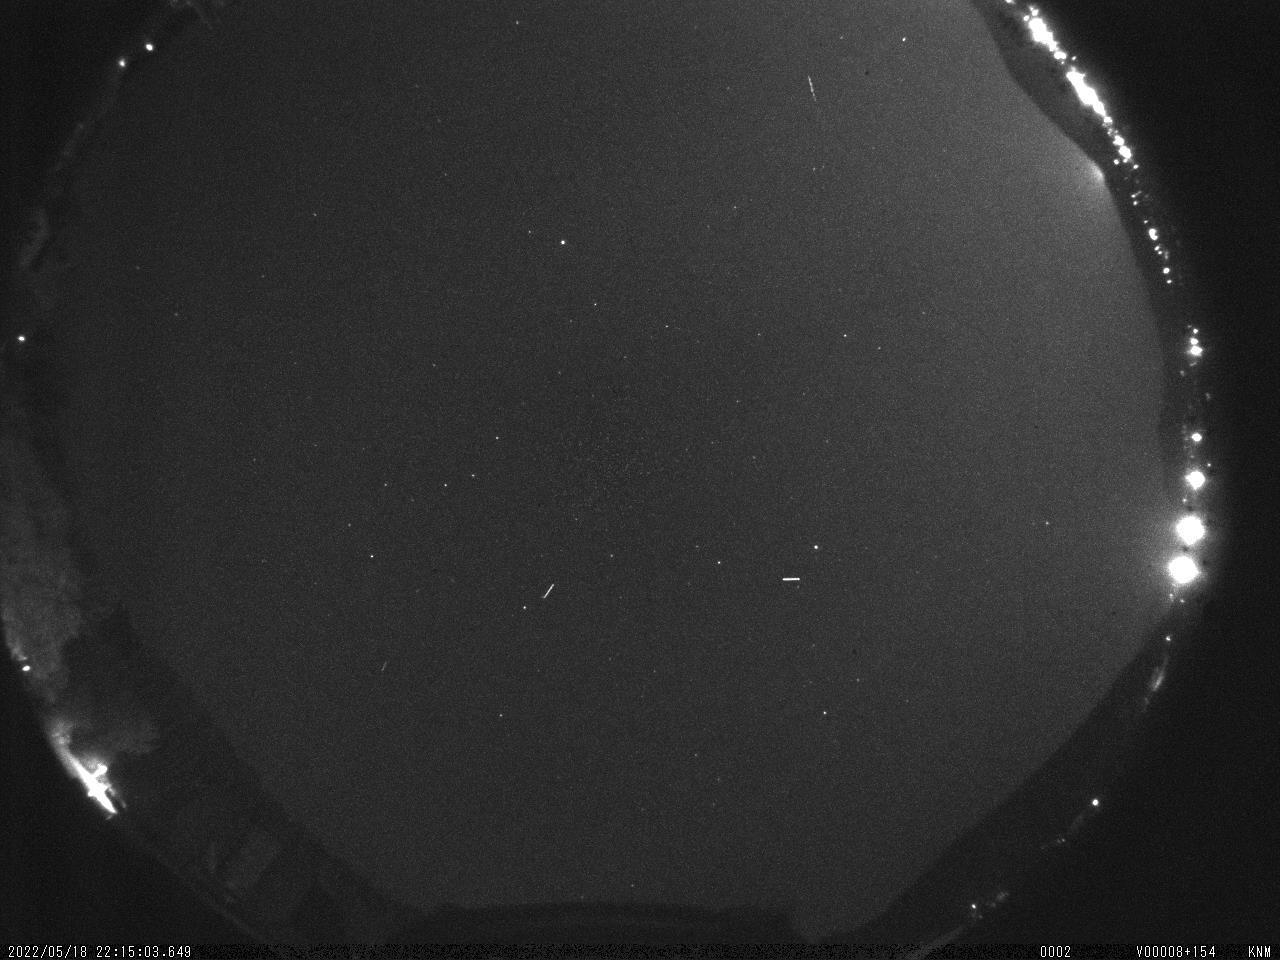Meteor: (802, 70, 823, 108), (538, 577, 559, 603), (775, 572, 804, 586)
